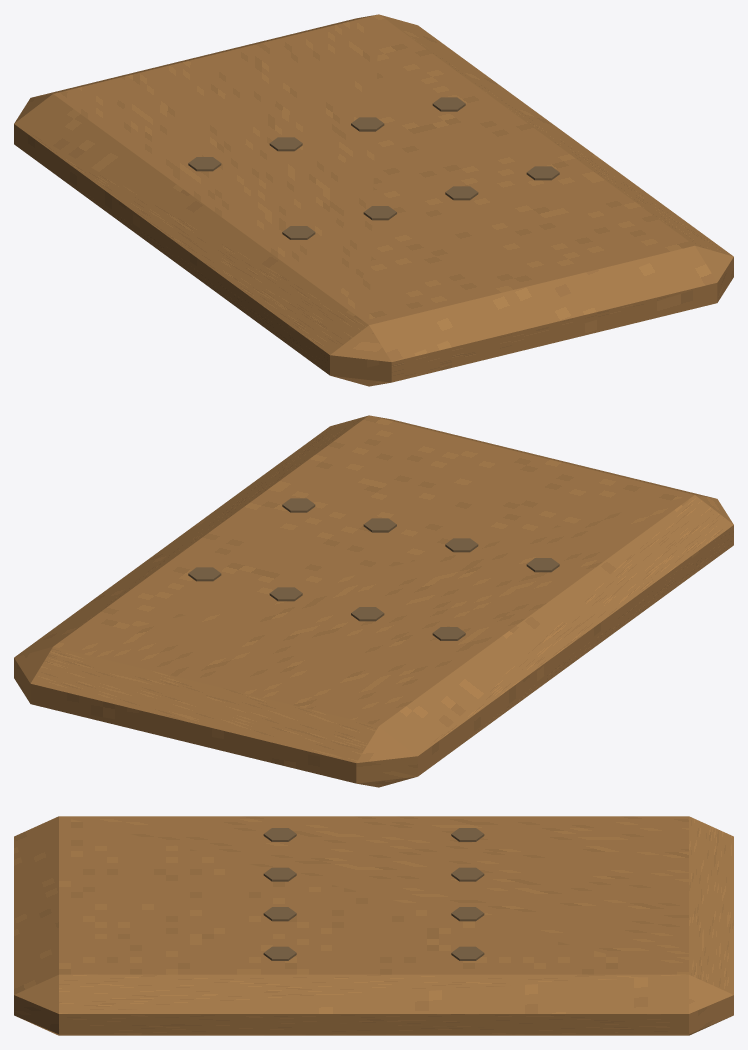
File: biscuit.glb
The picture shows the model from 3 angles, top to bottom: view 1: azimuth 30°, elevation 25°; view 2: azimuth 150°, elevation 25°; view 3: azimuth 270°, elevation 25°; orthographic projection.
Parts seen in each view (by area): view 1: block_baked crust; view 2: block_baked crust; view 3: block_baked crust, block_docking mark (×8).
Boxes of the visible parts, left/top/right/bottom form: block_baked crust: left=14, top=14, right=733, bottom=386; block_baked crust: left=14, top=415, right=733, bottom=787; block_baked crust: left=14, top=816, right=733, bottom=1035; block_docking mark (×8): left=263, top=828, right=484, bottom=960.
Size of the model in its own units: 0.0342 by 0.00513 by 0.0529.
Materials: 1 (1 with a texture image).
